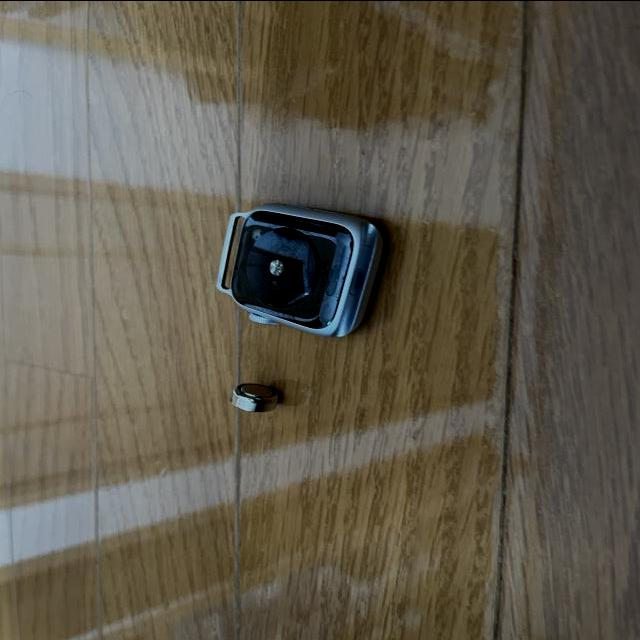COIN: (229, 383, 281, 412)
